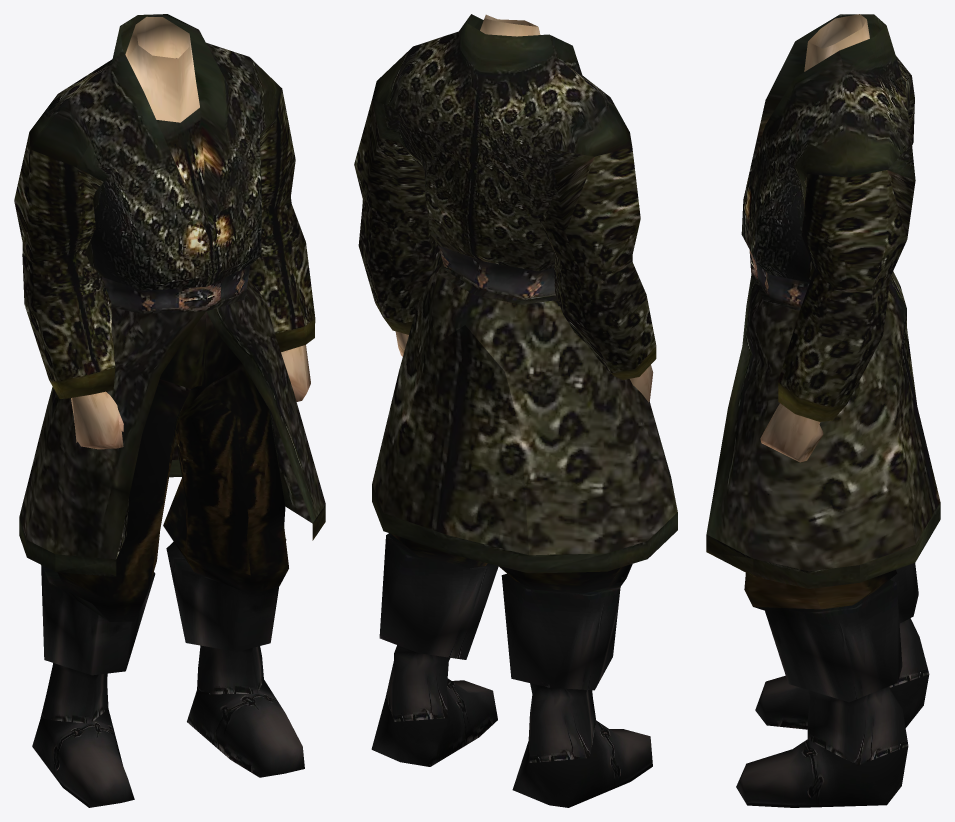
The model's file is WG_ARMOR_ELEGANT_CITIZEN_05.glb.
3 views of the same model, side by side, from view 1: azimuth 30°, elevation 25°; view 2: azimuth 150°, elevation 25°; view 3: azimuth 270°, elevation 25° (orthographic). The views are drawn at different scales.
Parts seen in each view (by area): view 1: WG_ARMOR_ELEGANT_CITIZEN_05; view 2: WG_ARMOR_ELEGANT_CITIZEN_05; view 3: WG_ARMOR_ELEGANT_CITIZEN_05.
Boxes of the visible parts, x1,y1,x2,y2 form: WG_ARMOR_ELEGANT_CITIZEN_05: (14, 14, 325, 807); WG_ARMOR_ELEGANT_CITIZEN_05: (354, 14, 677, 807); WG_ARMOR_ELEGANT_CITIZEN_05: (706, 14, 940, 807).
Size of the model in its own units: 0.651 by 1.69 by 0.4847.
Materials: 3 (3 with a texture image).
